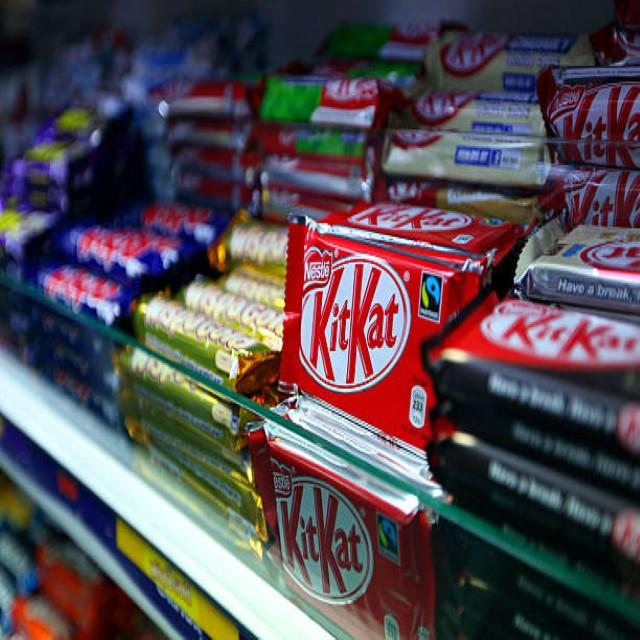kitkat_chocolate: (252, 438, 416, 614), (287, 230, 430, 418), (491, 286, 640, 390), (555, 78, 640, 167), (520, 227, 640, 290)
